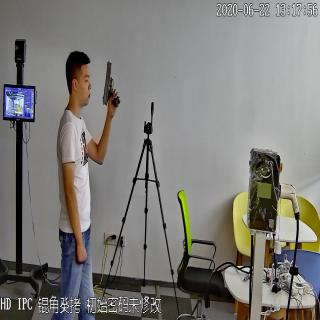gun: (102, 59, 120, 108)
